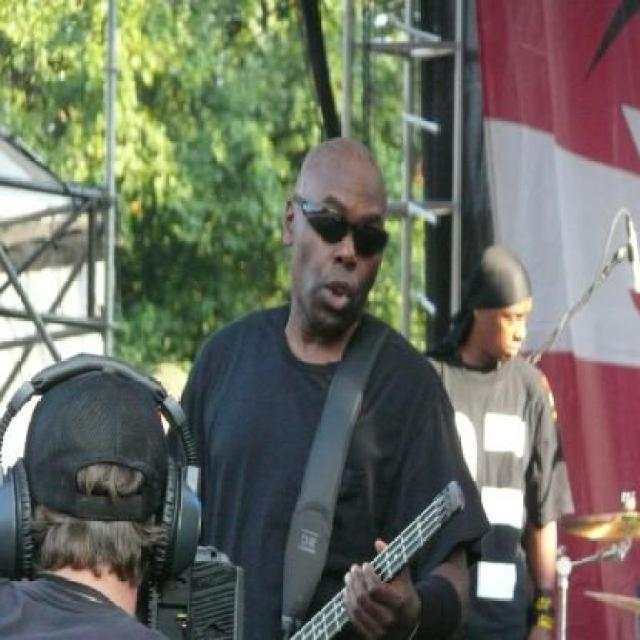earphone: (5, 340, 198, 573)
